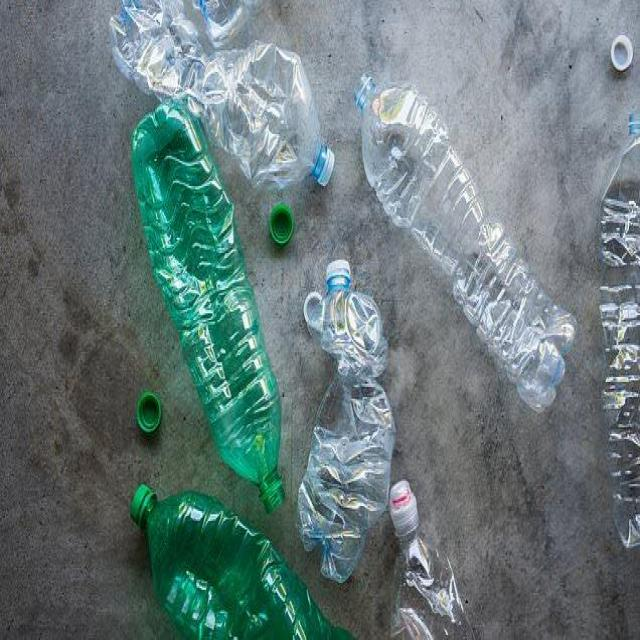plastic_bottle: (352, 57, 589, 446), (124, 92, 298, 527), (108, 1, 345, 199), (115, 458, 367, 640), (301, 245, 409, 588), (582, 99, 640, 570), (376, 461, 485, 640)
